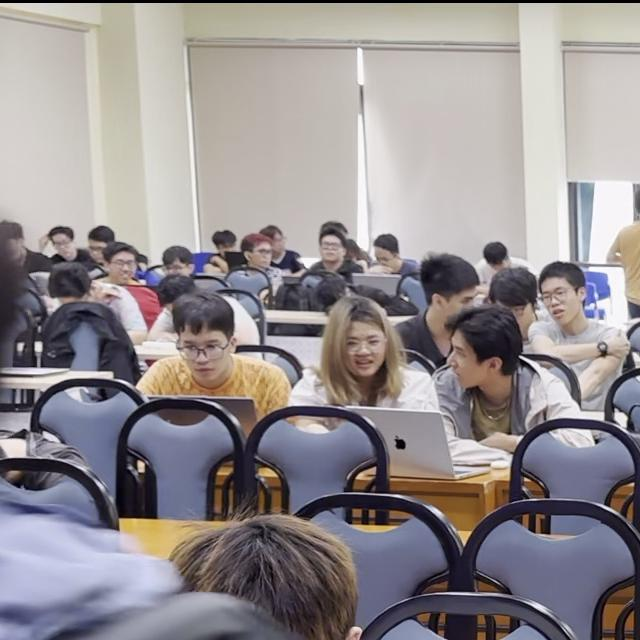Looking away: (174, 327, 235, 383), (446, 332, 494, 391), (433, 285, 475, 325), (241, 234, 275, 272)
Looking forward: (341, 320, 389, 378), (536, 278, 581, 329), (106, 250, 137, 287), (319, 233, 345, 268)
